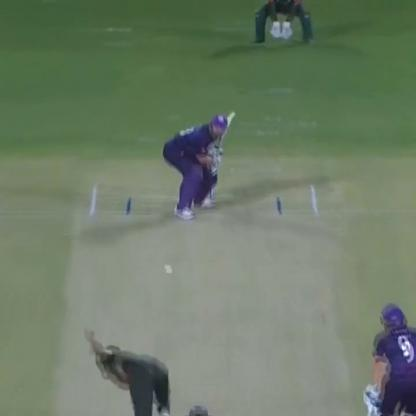ball: (161, 266, 177, 282), (162, 260, 176, 269)
bat: (218, 104, 237, 147)
pitch: (61, 180, 350, 416)
